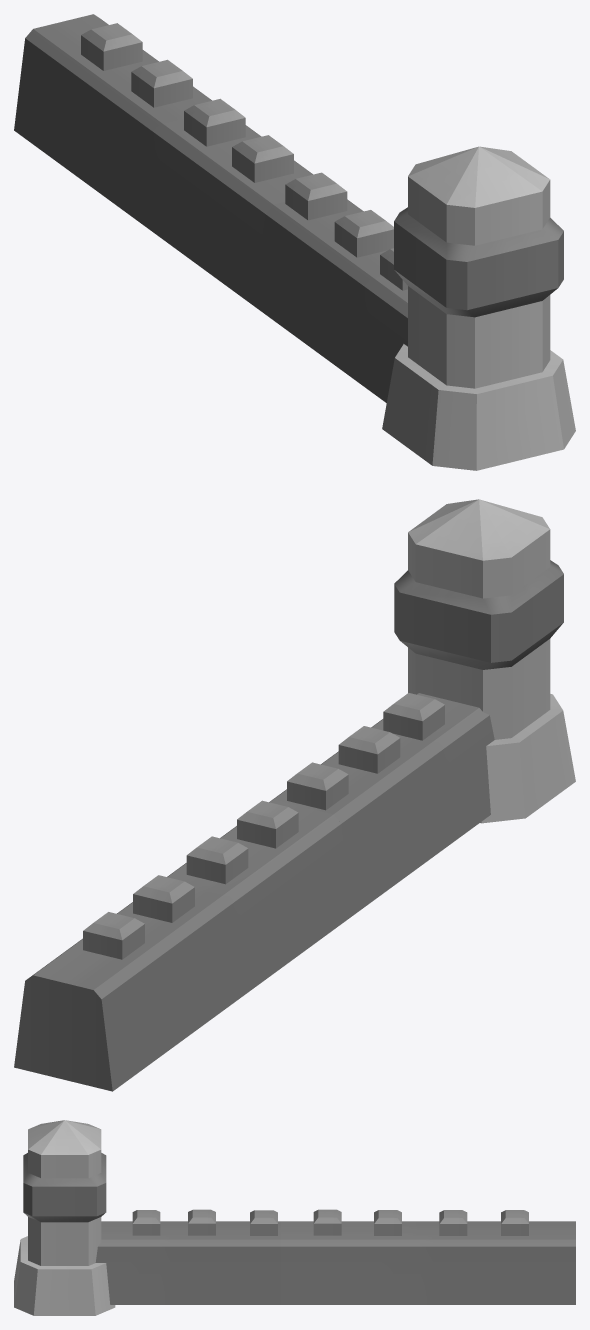
The model's file is Fence 3.fbx.
3 renders of one model, top to bottom at view 1: azimuth 30°, elevation 25°; view 2: azimuth 150°, elevation 25°; view 3: azimuth 270°, elevation 25°, orthographic. The views are drawn at different scales.
Parts seen in each view (by area): view 1: Fence_3; view 2: Fence_3; view 3: Fence_3.
Boxes of the visible parts, x1,y1,x2,y2 form: Fence_3: (14, 14, 575, 470); Fence_3: (14, 499, 575, 1091); Fence_3: (14, 1120, 575, 1315).
Size of the model in its own units: 0.2725 by 0.5143 by 1.5.
1 material, 1 textured.
